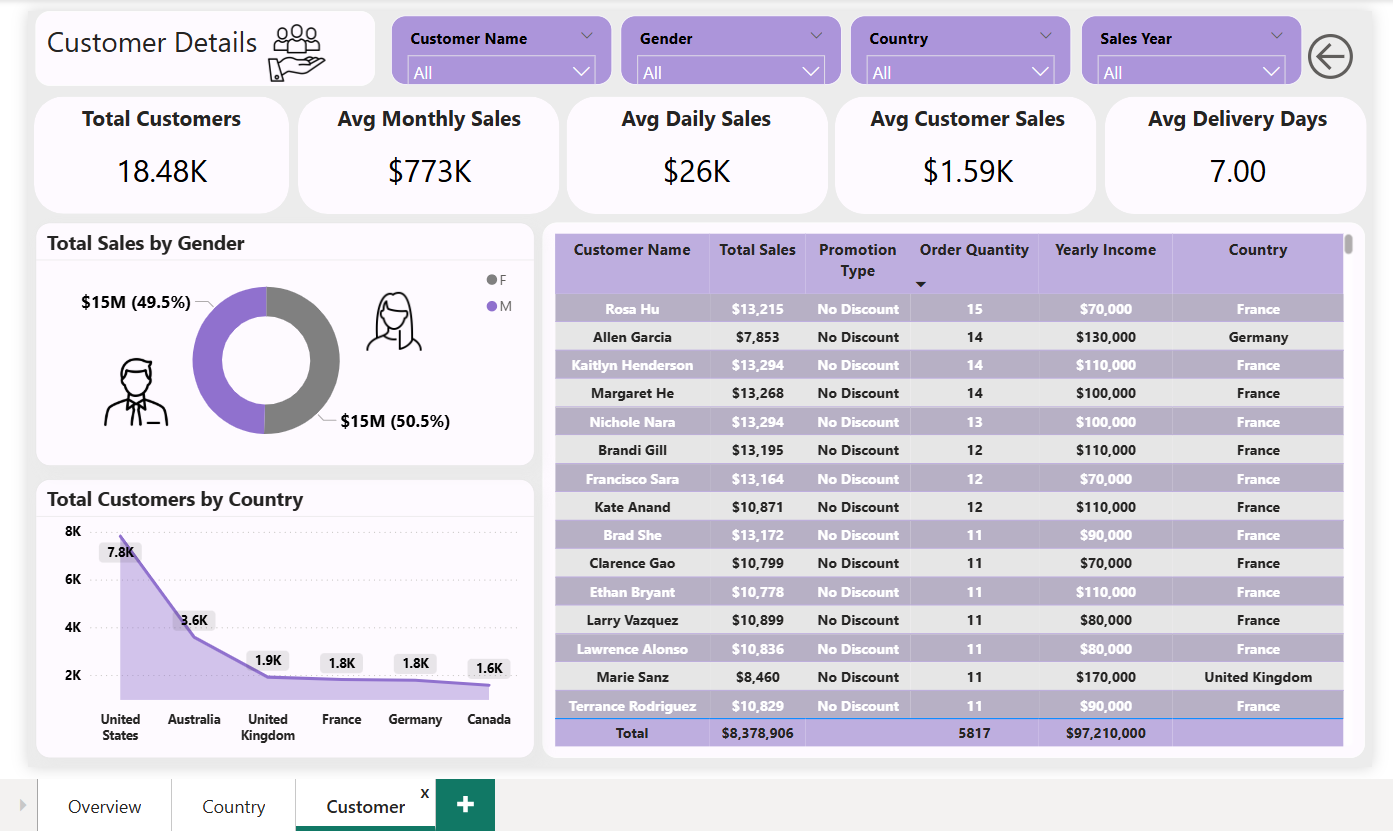

What the dashboard file says about the page in this screenshot:
{"tool":"powerbi","page":{"name":"Customer","canvas":[1280,720],"ordinal":2},"visuals":[{"type":"shape","box":[256.5,82,249,112],"z":0},{"type":"shape","box":[6,81.7,243,111.7],"z":1000},{"type":"shape","box":[769.2,82,249,112],"z":2000},{"type":"shape","box":[1025.5,82,249.3,112],"z":3000},{"type":"shape","box":[512.7,82,249.3,112],"z":4000},{"type":"card","title":"Total Customers","fields":{"Values":["CountNonNull(Customer.Customer Name)"]},"box":[8.3,88.3,236.7,100],"z":5000},{"type":"card","title":"Avg Customer Sales","fields":{"Values":["Fact Sales.AvgSalesPerCustomer"]},"box":[771.7,88.3,246.7,100],"z":6000},{"type":"card","title":"Avg Daily Sales","fields":{"Values":["Fact Sales.AvgDailySales"]},"box":[513.3,88.3,246.7,100],"z":7000},{"type":"card","title":"Avg Delivery Days","fields":{"Values":["Fact Sales.AvgDeliveryDays"]},"box":[1028.3,88.3,246.7,100],"z":8000},{"type":"donutChart","title":"Total Sales by Gender","fields":{"Category":["Customer.Gender"],"Y":["Sum(Fact Sales.UnitPrice)"]},"box":[6.7,201.7,475,231.7],"z":9000,"group":"g2"},{"type":"textbox","box":[6.7,0,323.3,71.3],"z":10000,"group":"g1"},{"type":"slicer","title":"Year","fields":{"Values":["Date.CalendarYear"]},"box":[1002.7,4.6,210.5,65.9],"z":10000,"group":"g3"},{"type":"tableEx","title":"Top 10 Customers","fields":{"Values":["Customer.Customer Name","Sum(Fact Sales.Total Sales)","Promotion.EnglishPromotionType","Sum(Fact Sales.OrderQuantity)","Sum(Customer.YearlyIncome)","Territory.SalesTerritoryCountry"]},"box":[490,201.7,783.3,510],"z":11000},{"type":"lineChart","title":"Total Customers by Country","fields":{"Y":["CountNonNull(Customer.Customer Name)"],"Category":["Territory.SalesTerritoryCountry"]},"box":[6.7,445,475,266],"z":12000},{"type":"slicer","title":"Country","fields":{"Values":["Territory.SalesTerritoryCountry"]},"box":[783.9,4.6,210.5,65.9],"z":13000,"group":"g3"},{"type":"slicer","title":"Country","fields":{"Values":["Customer.Gender"]},"box":[565,4.6,210.5,65.9],"z":14000,"group":"g3"},{"type":"slicer","title":"Country","fields":{"Values":["Customer.Customer Name"]},"box":[346.2,4.6,210.5,65.9],"z":15000,"group":"g3"},{"type":"card","title":"Avg Monthly Sales","fields":{"Values":["Fact Sales.AvgMonthlySales"]},"box":[258.3,88.3,246.7,100],"z":16000},{"type":"actionButton","box":[1213.3,15.3,67.4,55.1],"z":17000},{"type":"group","id":"g1","title":"Group 1","box":[6.7,0,323.3,75],"z":18000},{"type":"image","box":[214.4,4,84,71],"z":19000,"group":"g1"},{"type":"image","box":[313.4,258.4,68.3,73.3],"z":19000,"group":"g2"},{"type":"image","box":[60,319.3,85.7,88.6],"z":20000,"group":"g2"},{"type":"group","id":"g2","title":"Group 2","box":[6.7,201.7,475,231.7],"z":20001},{"type":"group","id":"g3","title":"Group 3","box":[346.2,4.6,867.1,65.9],"z":20002}]}

Visuals, with their boxes on the page's 1280x720 design canvas (x1, y1, x2, y2). These are canvas units, not pixel positions in the 1393x831 screenshot, which may show the page scaled, cropped or inside an application window:
shape: (left=256, top=82, right=506, bottom=194)
shape: (left=6, top=82, right=249, bottom=193)
shape: (left=769, top=82, right=1018, bottom=194)
shape: (left=1026, top=82, right=1275, bottom=194)
shape: (left=513, top=82, right=762, bottom=194)
"Total Customers" card: (left=8, top=88, right=245, bottom=188)
"Avg Customer Sales" card: (left=772, top=88, right=1018, bottom=188)
"Avg Daily Sales" card: (left=513, top=88, right=760, bottom=188)
"Avg Delivery Days" card: (left=1028, top=88, right=1275, bottom=188)
"Total Sales by Gender" donutChart: (left=7, top=202, right=482, bottom=433)
textbox: (left=7, top=0, right=330, bottom=71)
"Year" slicer: (left=1003, top=5, right=1213, bottom=70)
"Top 10 Customers" tableEx: (left=490, top=202, right=1273, bottom=712)
"Total Customers by Country" lineChart: (left=7, top=445, right=482, bottom=711)
"Country" slicer: (left=784, top=5, right=994, bottom=70)
"Country" slicer: (left=565, top=5, right=776, bottom=70)
"Country" slicer: (left=346, top=5, right=557, bottom=70)
"Avg Monthly Sales" card: (left=258, top=88, right=505, bottom=188)
actionButton: (left=1213, top=15, right=1281, bottom=70)
"Group 1" group: (left=7, top=0, right=330, bottom=75)
image: (left=214, top=4, right=298, bottom=75)
image: (left=313, top=258, right=382, bottom=332)
image: (left=60, top=319, right=146, bottom=408)
"Group 2" group: (left=7, top=202, right=482, bottom=433)
"Group 3" group: (left=346, top=5, right=1213, bottom=70)
